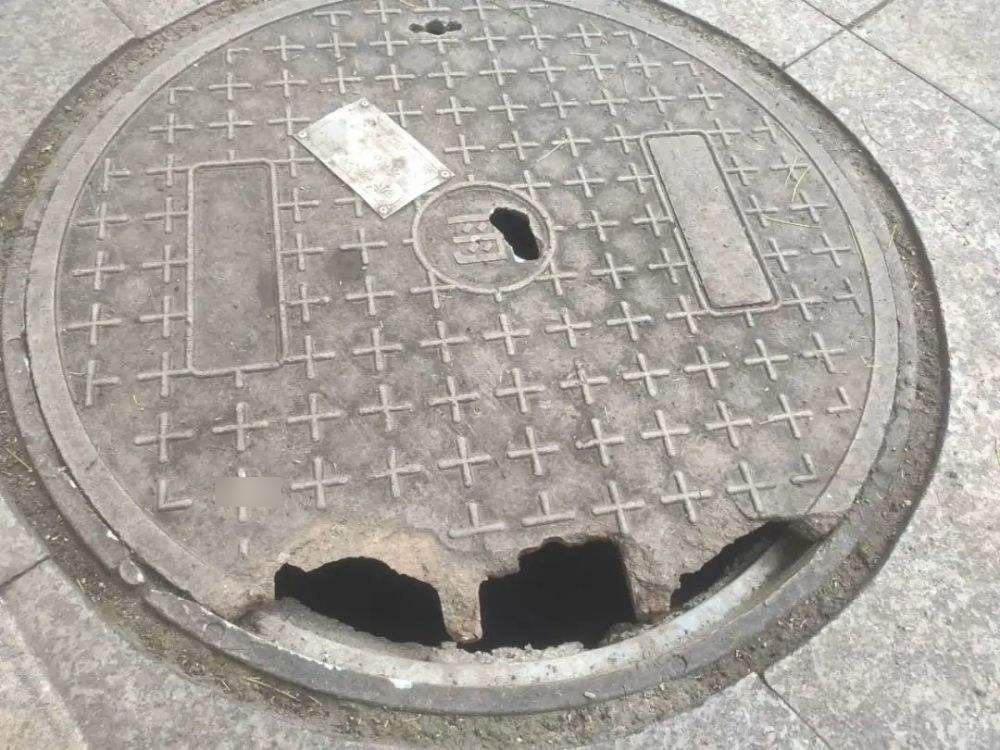broke: (4, 2, 918, 720)
